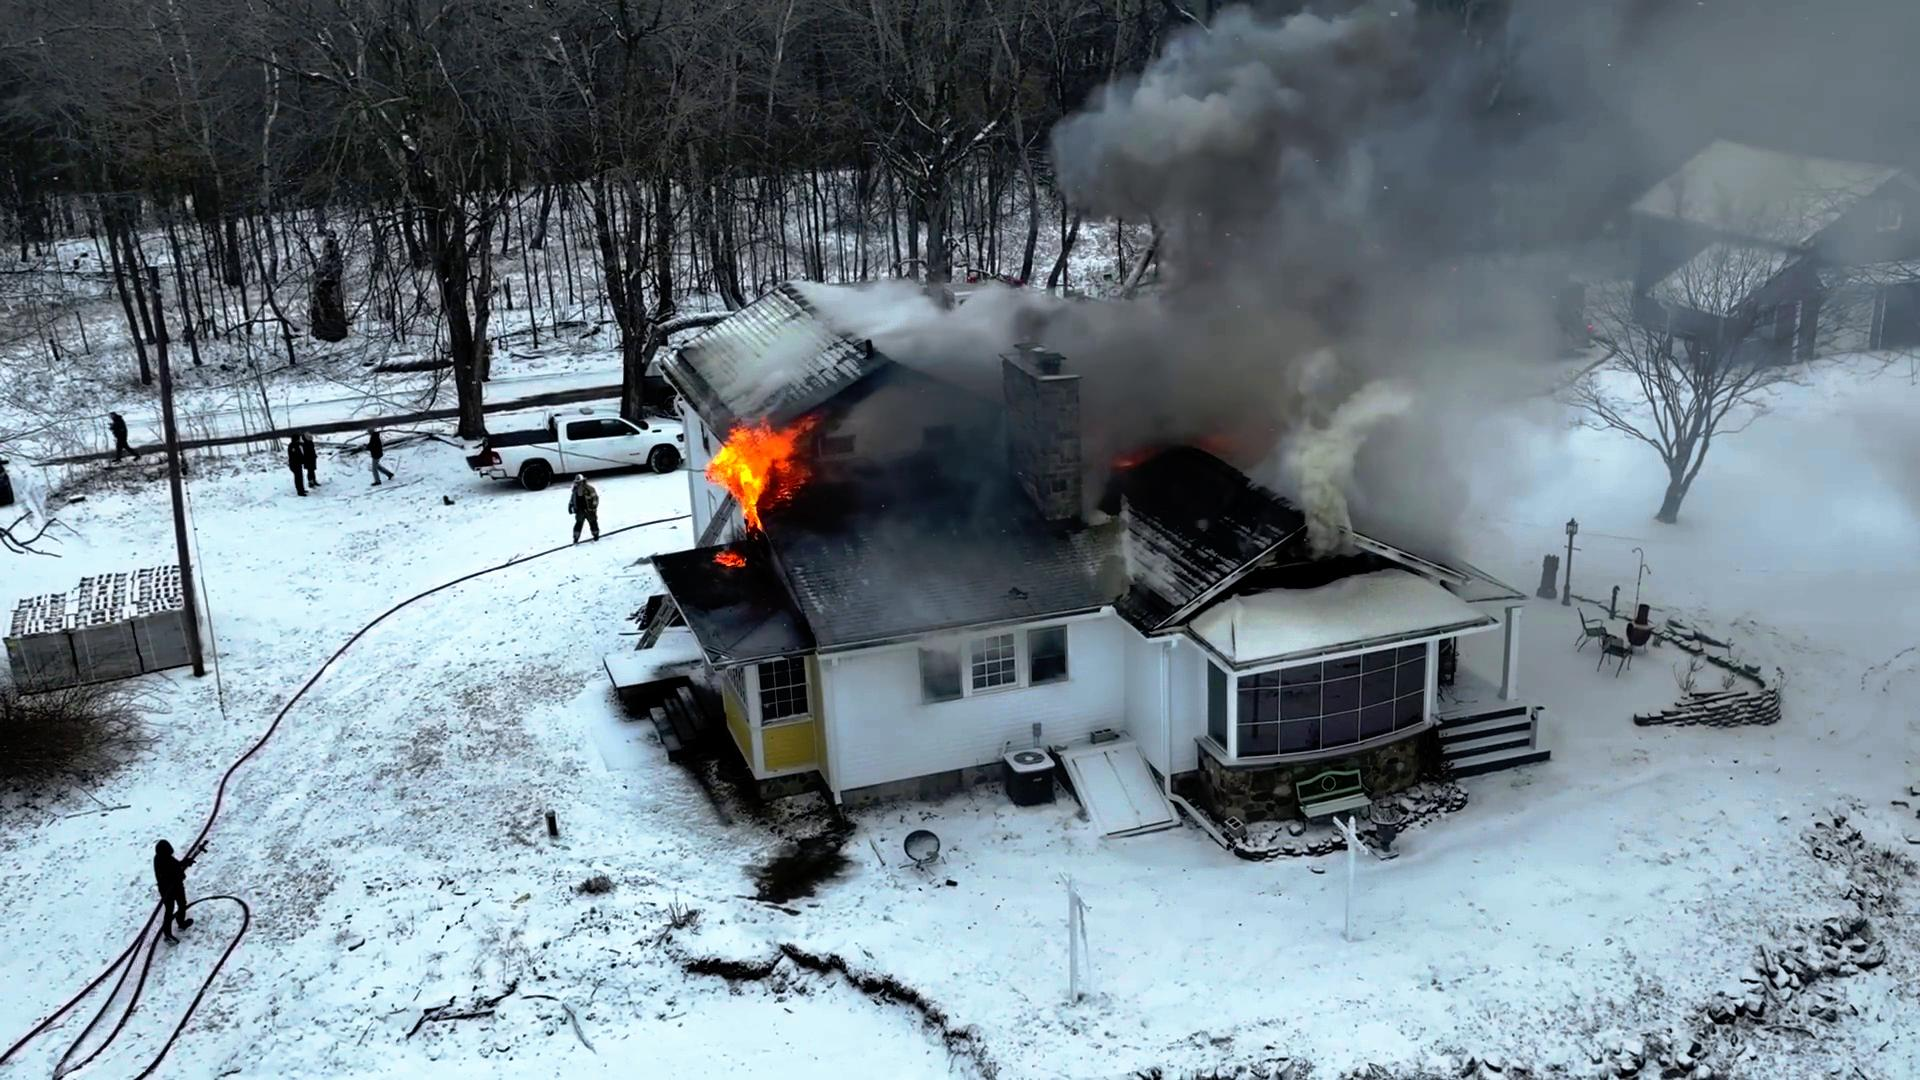fire: (708, 418, 819, 522)
smoke: (1135, 318, 1321, 463)
